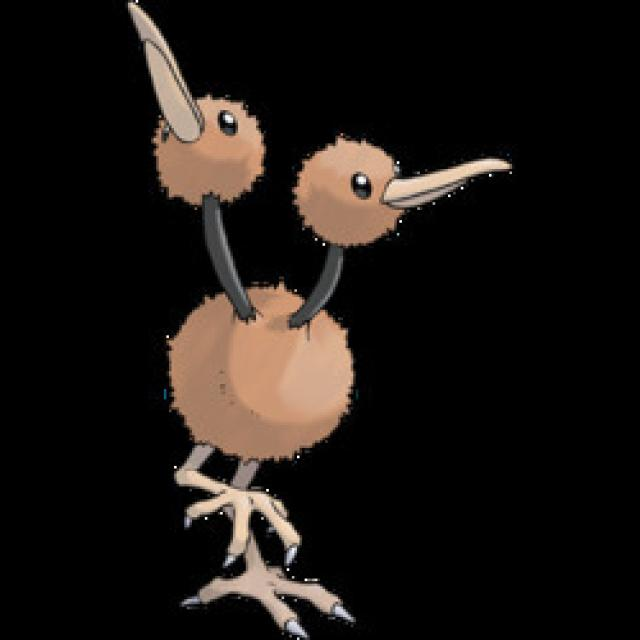Doduo: (144, 65, 429, 596)
